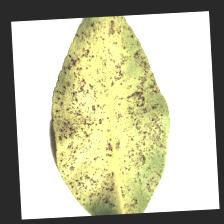canker: (64, 60, 163, 174)
